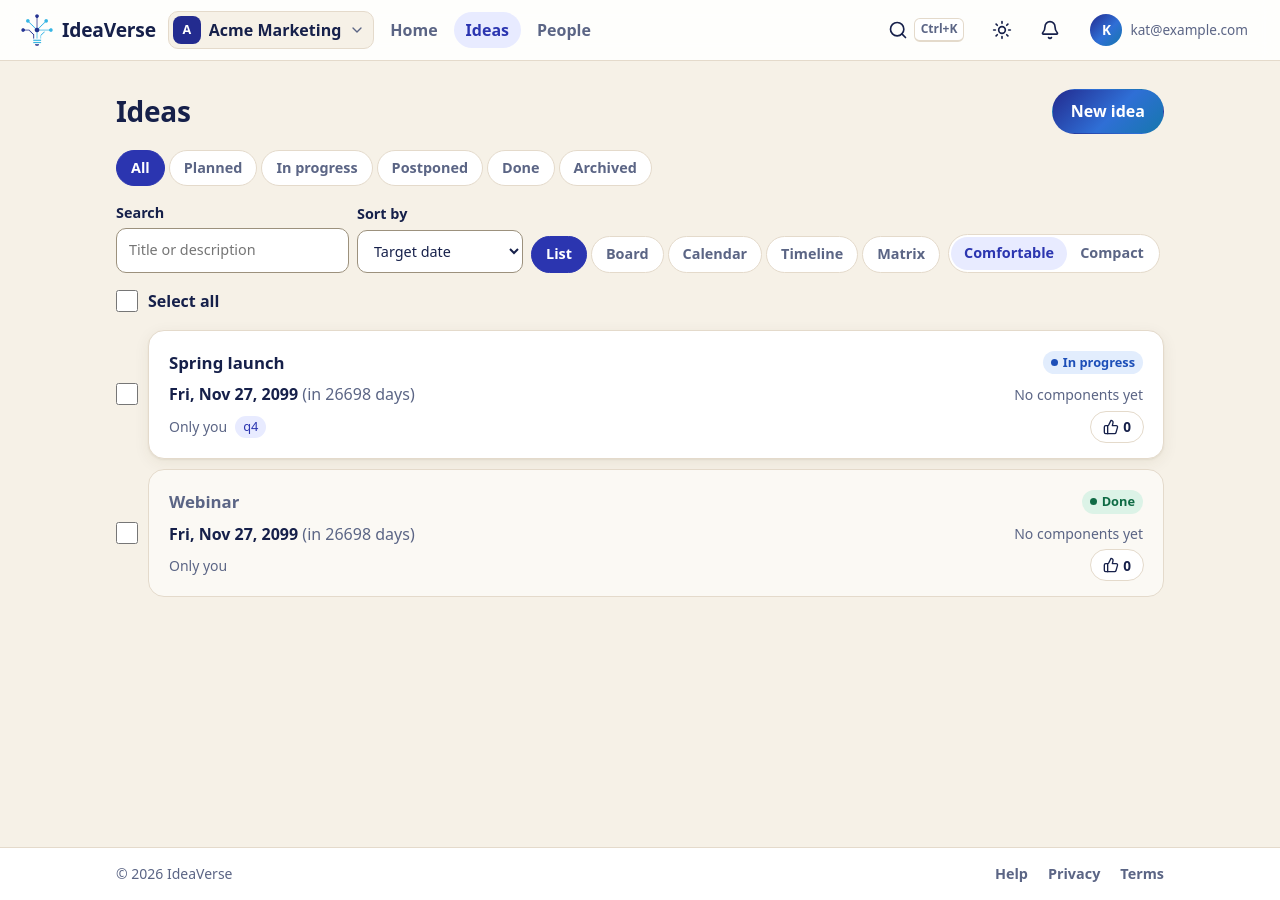
Bulk actions on the ideas list › reports the ideas a change could not apply to, and keeps them selected
Click the checkbox labelled "Select all". click: point(127, 301)
box: [116,290,138,312]
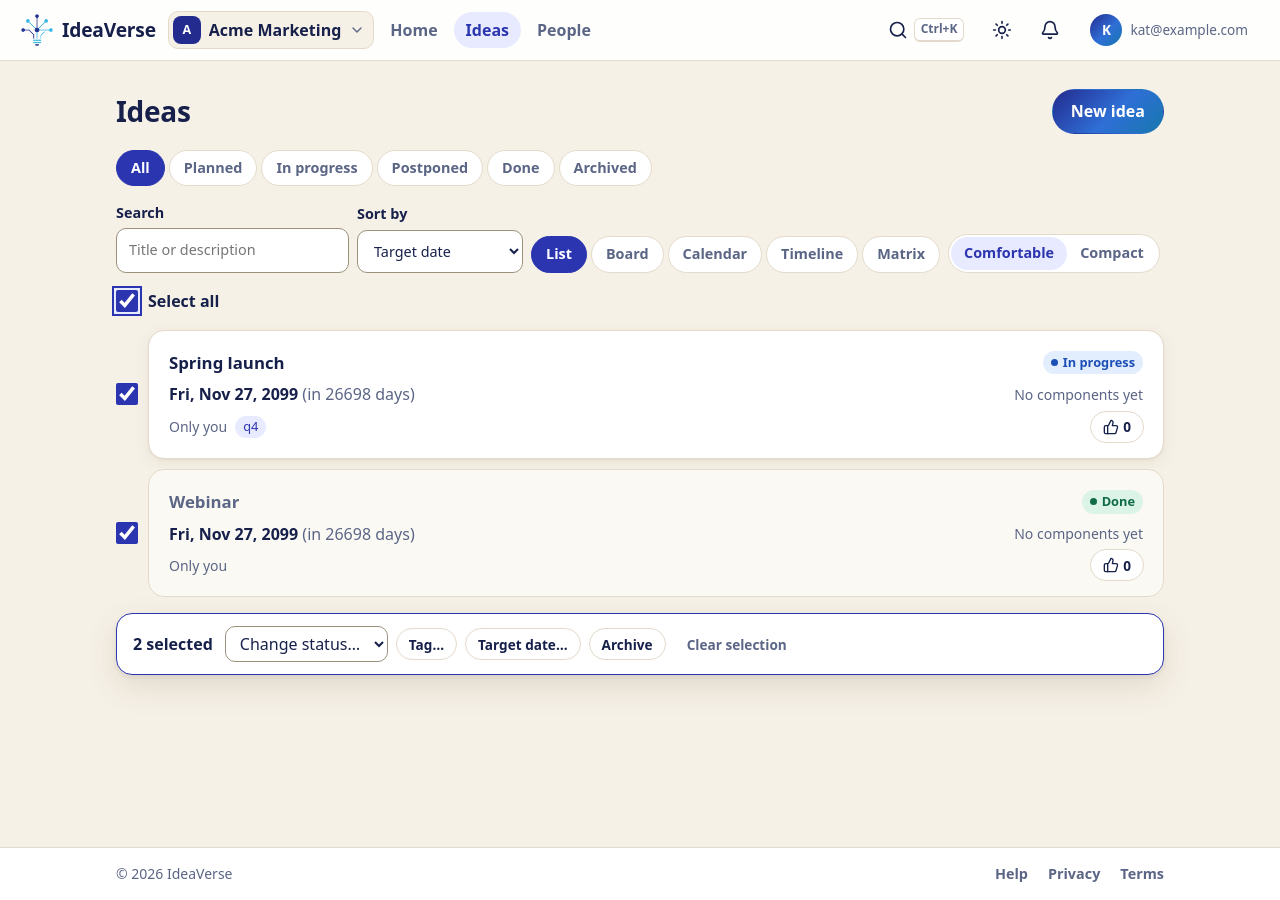
Click the button "Target date…". click: point(523, 644)
box: [465,628,580,660]
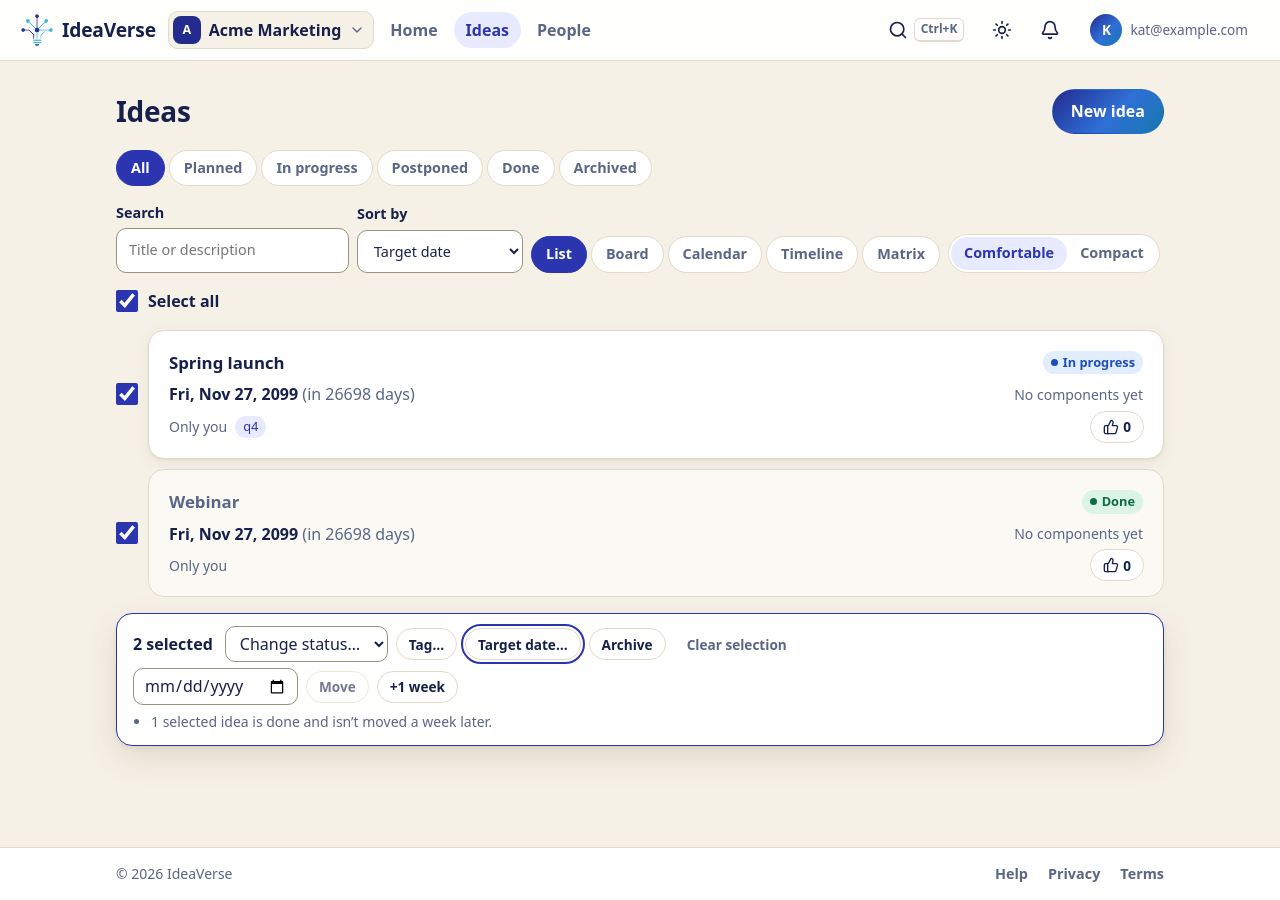
Type "2099-12-31" into the date field named "New target date". click: point(216, 687)
box: [133,668,298,705]
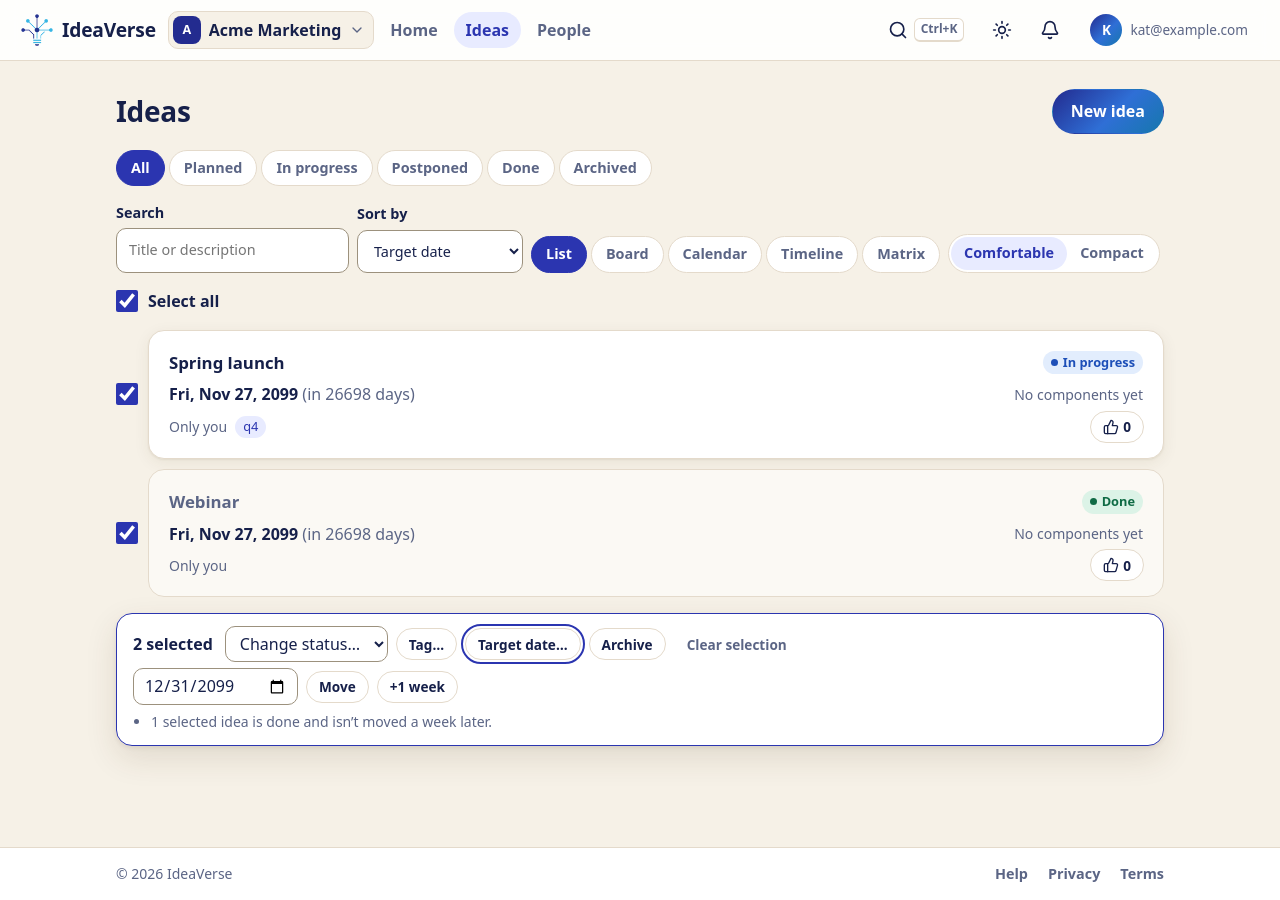
Click the button "Move". click: point(337, 687)
box: [306,671,369,703]
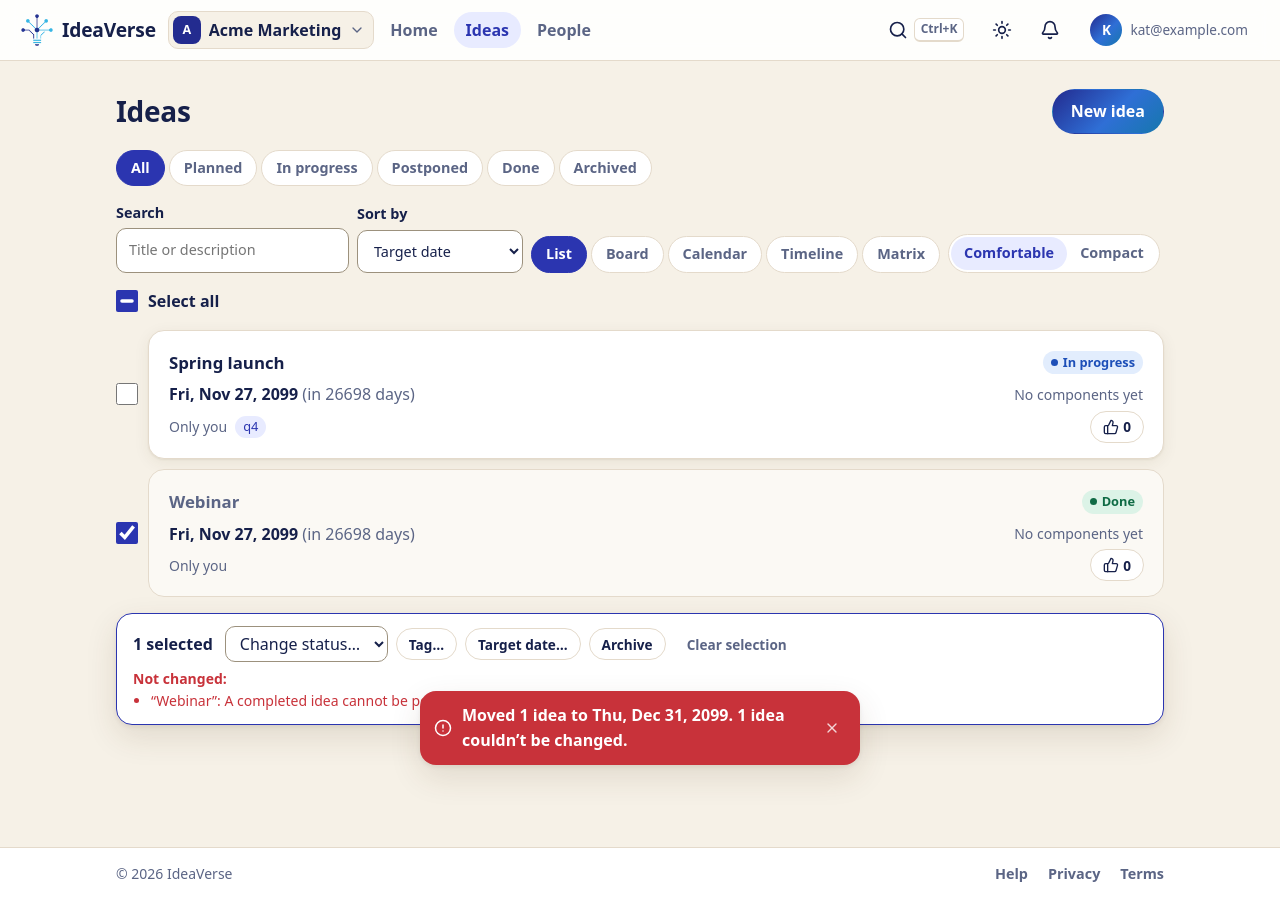
Result: the text "Moved 1 idea to Thu, Dec 31, 2099. 1 idea couldn’t be changed." is shown at [462,703,808,753]
Result: the message "Not changed: “Webinar”: A completed idea cannot be postponed." is shown at [133,669,486,710]
Result: the text "1 selected" is shown at [133,632,213,657]
